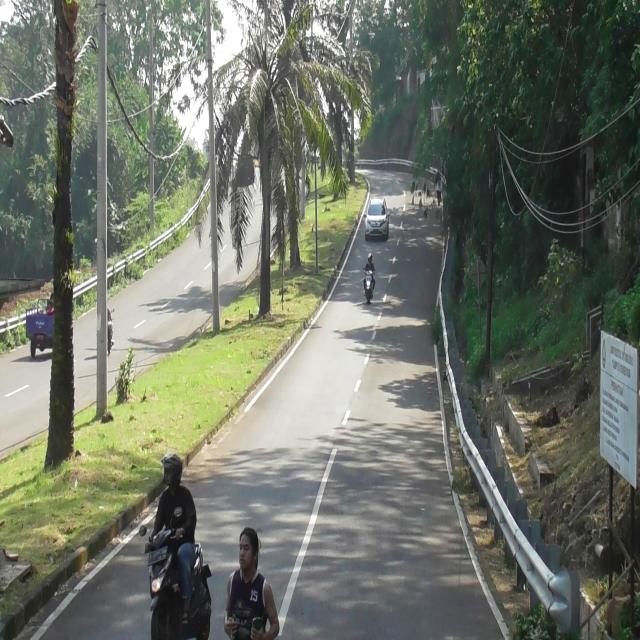motorcycle: (149, 522, 213, 640), (363, 270, 374, 303)
person: (148, 440, 195, 624), (364, 252, 375, 273)
rider_region: (142, 452, 214, 640), (363, 253, 375, 304)
